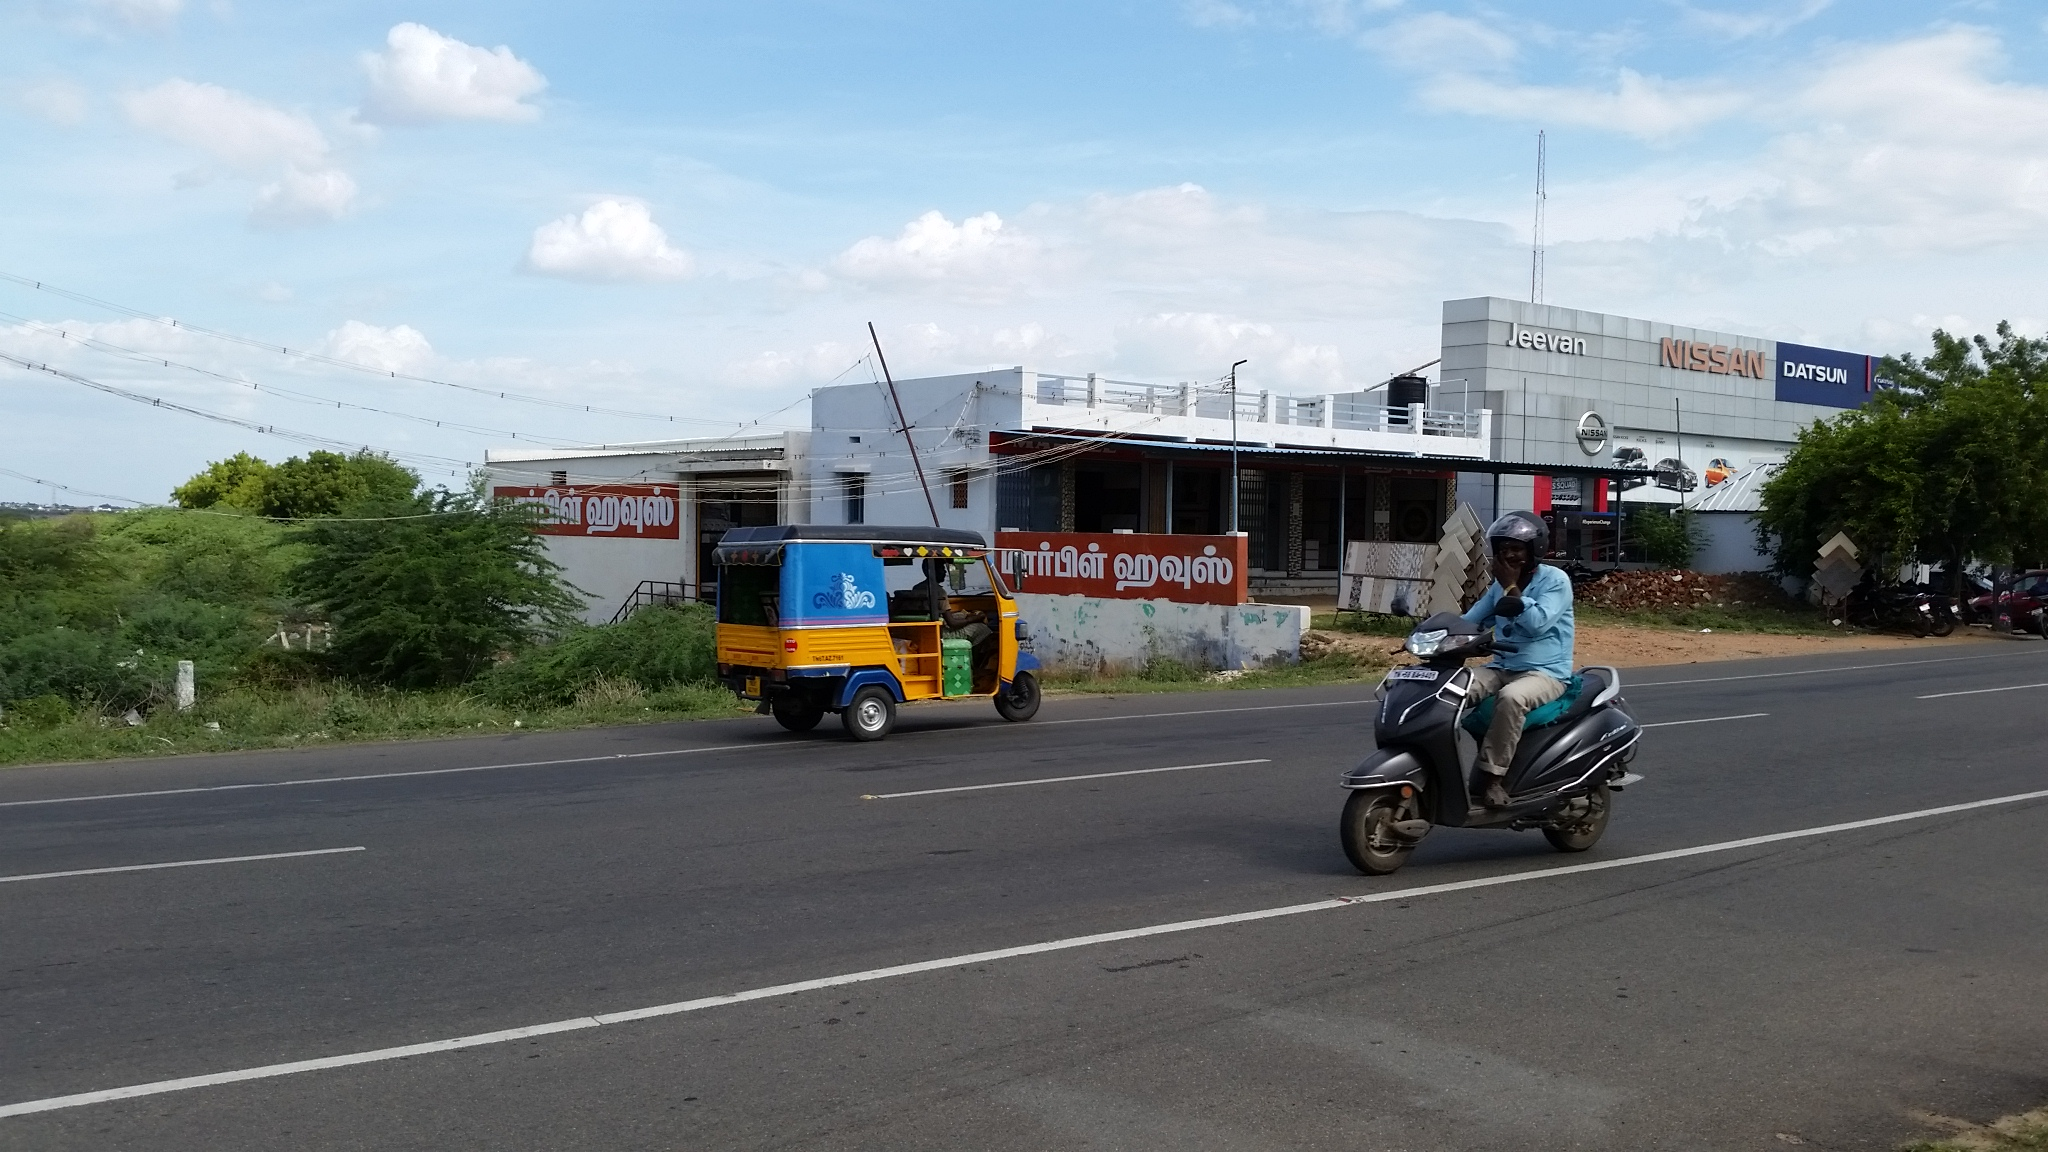biker: (1326, 487, 1659, 898)
helmet: (1484, 502, 1559, 587)
